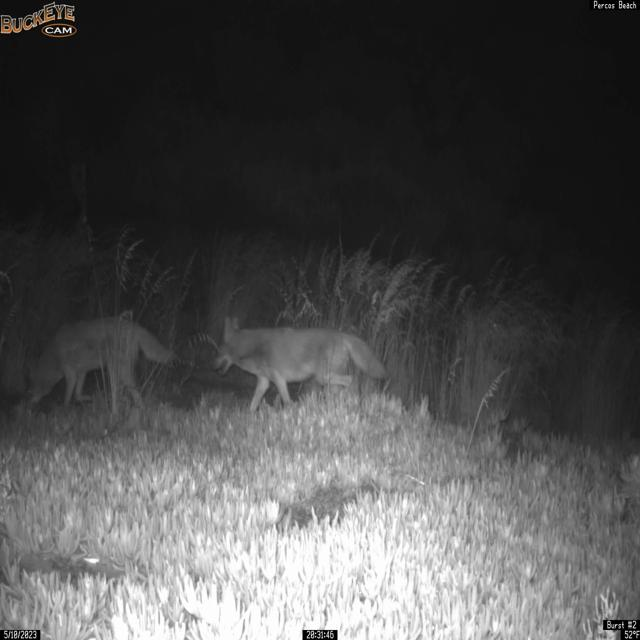coyote: (210, 315, 388, 414)
